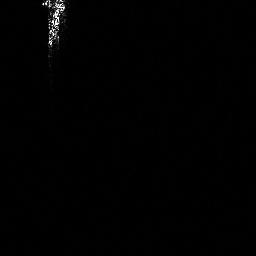ship: (39, 1, 68, 68)
